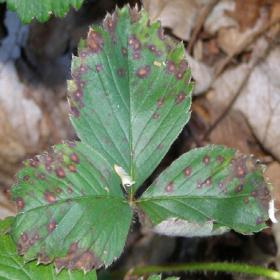Leaf Spot: (66, 2, 194, 197), (0, 139, 133, 276), (134, 144, 274, 238)
